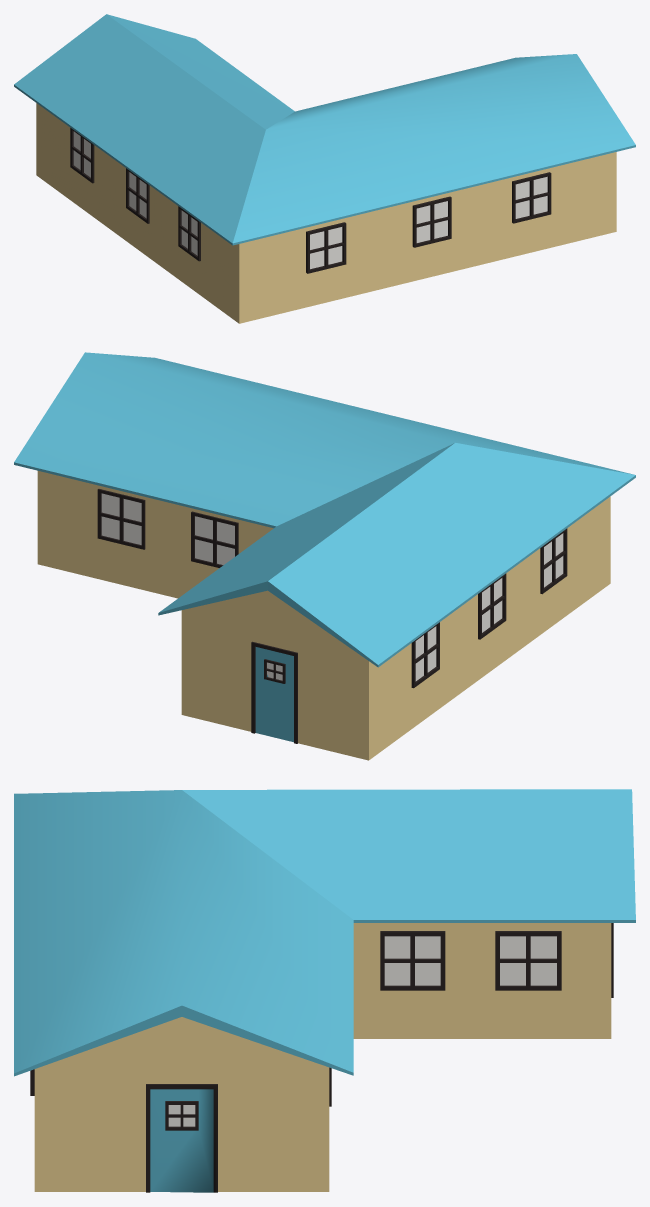
Rendered from House 02 B.FBX.
3 views of the same model, one above another, from view 1: azimuth 30°, elevation 25°; view 2: azimuth 150°, elevation 25°; view 3: azimuth 270°, elevation 25° (orthographic). The views are drawn at different scales.
Parts seen in each view (by area): view 1: Box001; view 2: Box001; view 3: Box001.
Boxes of the visible parts, bbox=[...] form: Box001: bbox=[14, 14, 635, 323]; Box001: bbox=[14, 352, 635, 760]; Box001: bbox=[14, 789, 635, 1192].
Bounding box in the file's own units: 31.62 × 10.23 × 29.63.
